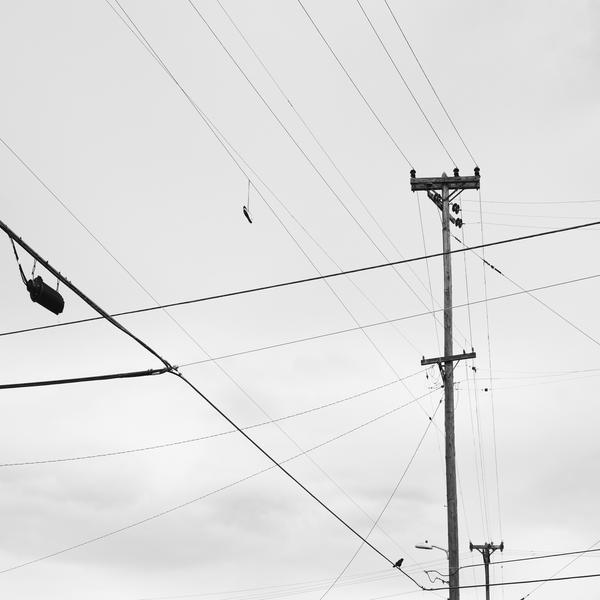utility_pole: (400, 150, 488, 271)
